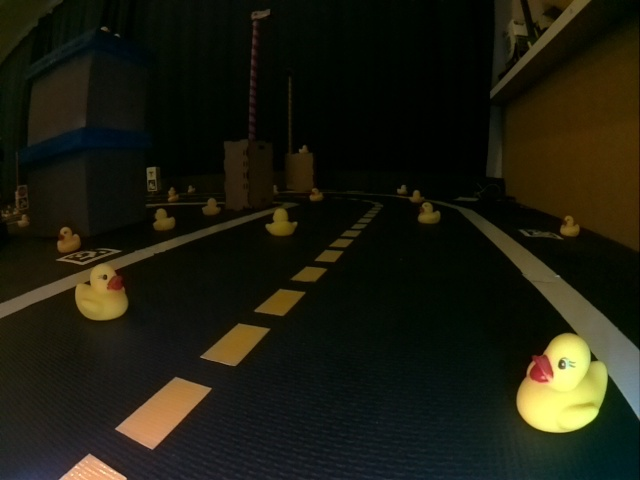Duckie: (517, 334, 608, 432), (75, 267, 126, 321), (267, 208, 298, 235), (153, 208, 174, 231), (420, 204, 441, 224), (560, 216, 580, 236), (58, 226, 76, 248), (202, 198, 221, 215), (309, 188, 322, 201), (410, 190, 423, 202), (17, 214, 28, 226), (397, 185, 407, 194), (168, 188, 176, 196), (273, 185, 279, 195), (301, 145, 309, 152)
QR code: (56, 248, 122, 266), (518, 227, 561, 240)
